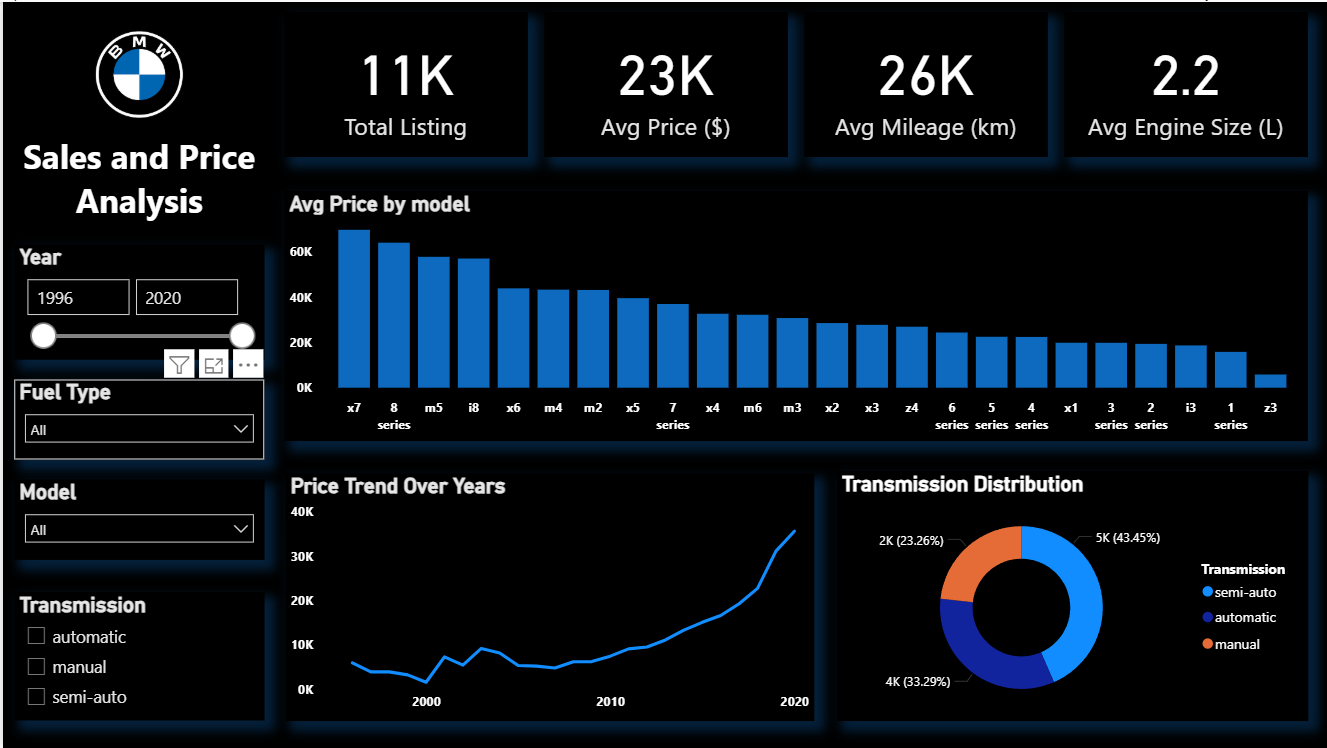

Layout of this report page (visuals, bound fields, positions):
{"tool":"powerbi","page":{"name":"Page 1","canvas":[1280,720],"ordinal":0},"visuals":[{"type":"image","box":[66.4,0,130.3,139.9],"z":0},{"type":"textbox","box":[11.1,121.9,241.3,97.7],"z":1000},{"type":"card","fields":{"Values":["bmw_clean.Total Listing"]},"box":[271.4,9.7,235,139.9],"z":2000},{"type":"card","title":"Avg Price (₹K)","fields":{"Values":["bmw_clean.Average Price"]},"box":[522.4,9.7,235,139.9],"z":3000},{"type":"card","fields":{"Values":["bmw_clean.Average Milage"]},"box":[773.3,9.7,235,139.9],"z":4000},{"type":"card","fields":{"Values":["bmw_clean.Average Engine Size"]},"box":[1024.3,9.7,235,139.9],"z":5000},{"type":"columnChart","title":"Avg Price by model","fields":{"Category":["bmw_clean.model"],"Y":["bmw_clean.Avg Price by Model"]},"box":[271.4,182.2,988.1,241.3],"z":6000},{"type":"lineChart","title":"Price Trend Over Years","fields":{"Category":["bmw_clean.year"],"Y":["bmw_clean.Average Price"]},"box":[272.7,454.8,510.3,238.9],"z":7000},{"type":"donutChart","title":"Transmission Distribution","fields":{"Category":["bmw_clean.transmission"],"Y":["bmw_clean.Total Listing"]},"box":[804.7,452.4,454.8,241.3],"z":8000},{"type":"slicer","title":"Year","fields":{"Values":["bmw_clean.year"]},"box":[10.9,234,241.3,111],"z":9000},{"type":"slicer","title":"Fuel Type","fields":{"Values":["bmw_clean.fuelType"]},"box":[10.9,364.3,241.3,77.2],"z":10000},{"type":"slicer","title":"Model","fields":{"Values":["bmw_clean.model"]},"box":[10.9,460.9,241.3,77.2],"z":11000},{"type":"slicer","title":"Transmission","fields":{"Values":["bmw_clean.Transmission"]},"box":[10.9,569.4,241.3,124.3],"z":12000}]}

Visuals, with their boxes in screenshot pixels (x1, y1, x2, y2), scaled from the page's 1280x720 canvas onto the 1327x748 screenshot:
image: box=[69, 0, 204, 145]
textbox: box=[12, 127, 262, 228]
card - bmw_clean.Total Listing: box=[281, 10, 525, 155]
"Avg Price (₹K)" card: box=[542, 10, 785, 155]
card - bmw_clean.Average Milage: box=[802, 10, 1045, 155]
card - bmw_clean.Average Engine Size: box=[1062, 10, 1306, 155]
"Avg Price by model" columnChart: box=[281, 189, 1306, 440]
"Price Trend Over Years" lineChart: box=[283, 472, 812, 721]
"Transmission Distribution" donutChart: box=[834, 470, 1306, 721]
"Year" slicer: box=[11, 243, 261, 358]
"Fuel Type" slicer: box=[11, 378, 261, 459]
"Model" slicer: box=[11, 479, 261, 559]
"Transmission" slicer: box=[11, 592, 261, 721]
